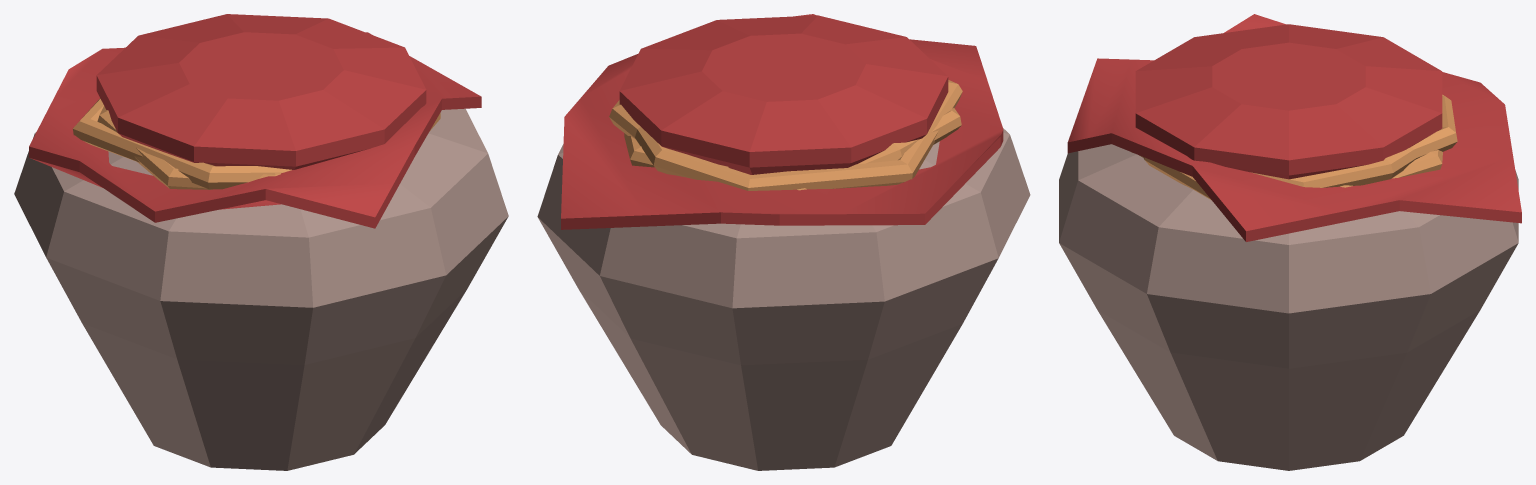
3 renders of one model, left to right at view 1: azimuth 30°, elevation 25°; view 2: azimuth 150°, elevation 25°; view 3: azimuth 270°, elevation 25°, orthographic. The views are drawn at different scales.
Visible parts, largest first — view 1: 放样, 放样_1, 封顶_1, 封顶_1_3, 放样_2, 扫描; view 2: 放样, 放样_1, 封顶_1, 扫描, 封顶_1_3, 放样_2; view 3: 放样, 放样_1, 封顶_1, 封顶_1_3, 放样_2, 扫描.
Part boxes in pixels (<box>): 放样: <box>14,108,508,470</box>; 放样_1: <box>96,14,426,169</box>; 封顶_1: <box>29,32,480,217</box>; 封顶_1_3: <box>179,32,343,100</box>; 放样_2: <box>29,96,481,228</box>; 扫描: <box>73,98,440,189</box>; 放样: <box>537,128,1030,470</box>; 放样_1: <box>619,15,948,174</box>; 封顶_1: <box>561,14,1003,218</box>; 扫描: <box>609,80,962,190</box>; 封顶_1_3: <box>702,33,865,101</box>; 放样_2: <box>561,130,1003,229</box>; 放样: <box>1059,144,1518,470</box>; 放样_1: <box>1135,24,1442,179</box>; 封顶_1: <box>1068,14,1521,231</box>; 封顶_1_3: <box>1212,42,1365,110</box>; 放样_2: <box>1067,133,1521,241</box>; 扫描: <box>1132,94,1457,200</box>.
Size of the model in its own units: 120 by 94.01 by 115.
